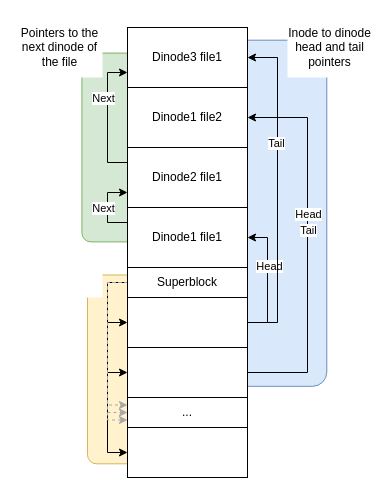
The diagram is 389 pixels wide and 495 high, and some of its shapes have lost their labels. Here are the shapes that lost their labels. From the top down, the centre of each, then its label:
(64,272): Superblock to inode pointers
(187,322): Inode file1
(187,372): Inode file2
(187,452): Inode fileX
